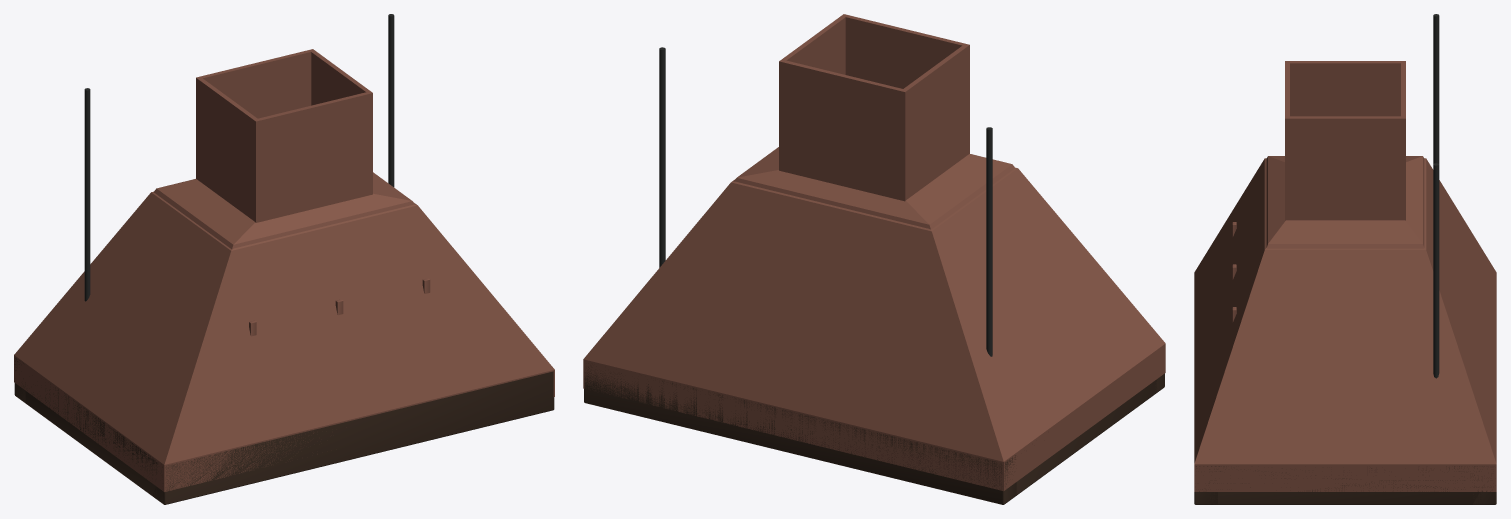
Rendered from kominka-smoke-hood-01.glb.
3 renders of one model, left to right at view 1: azimuth 30°, elevation 25°; view 2: azimuth 150°, elevation 25°; view 3: azimuth 270°, elevation 25°, orthographic. The views are drawn at different scales.
Visible parts, largest first — view 1: kominka-smoke-hood-01; view 2: kominka-smoke-hood-01; view 3: kominka-smoke-hood-01.
Part boxes in pixels (x1,y1,x2,y2): kominka-smoke-hood-01: (14, 14, 554, 504); kominka-smoke-hood-01: (583, 14, 1165, 504); kominka-smoke-hood-01: (1194, 14, 1496, 504).
Size of the model in its own units: 0.9 by 0.7 by 0.6.
